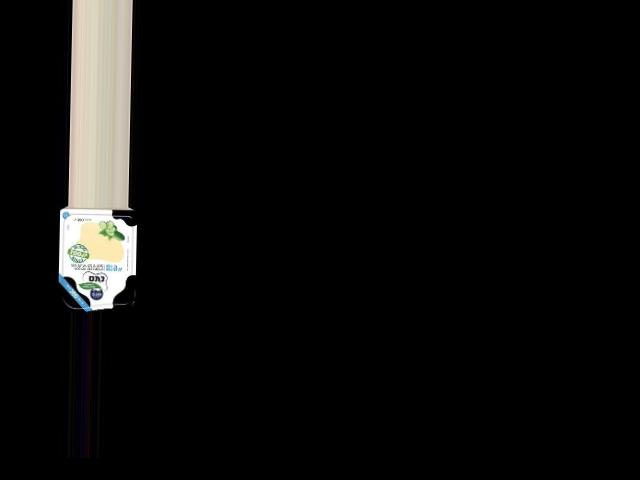cheese: (53, 204, 141, 311)
